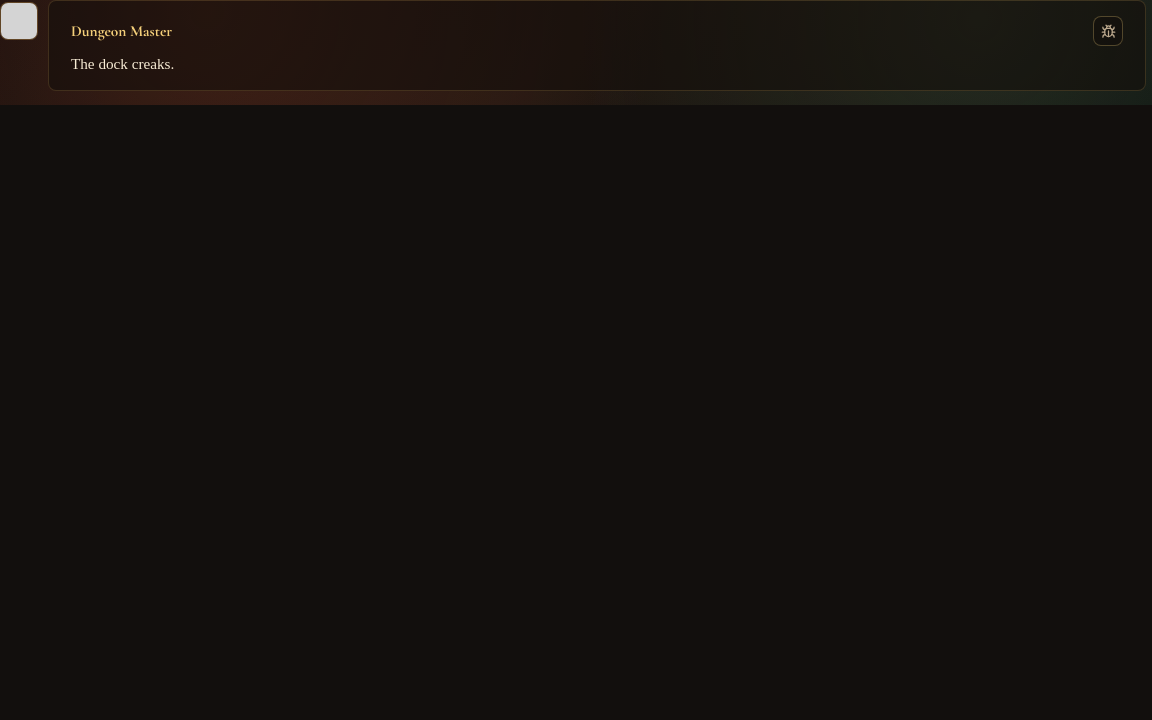
Test case: MessageLog › updates an open AI debug modal when message debug data refreshes
The width and height of the screenshot is (1152, 720).
Later steps or results of the test are not shown.
Click the button named "show ai debug details" at coordinates (1108, 31), box [1093,16,1123,46]
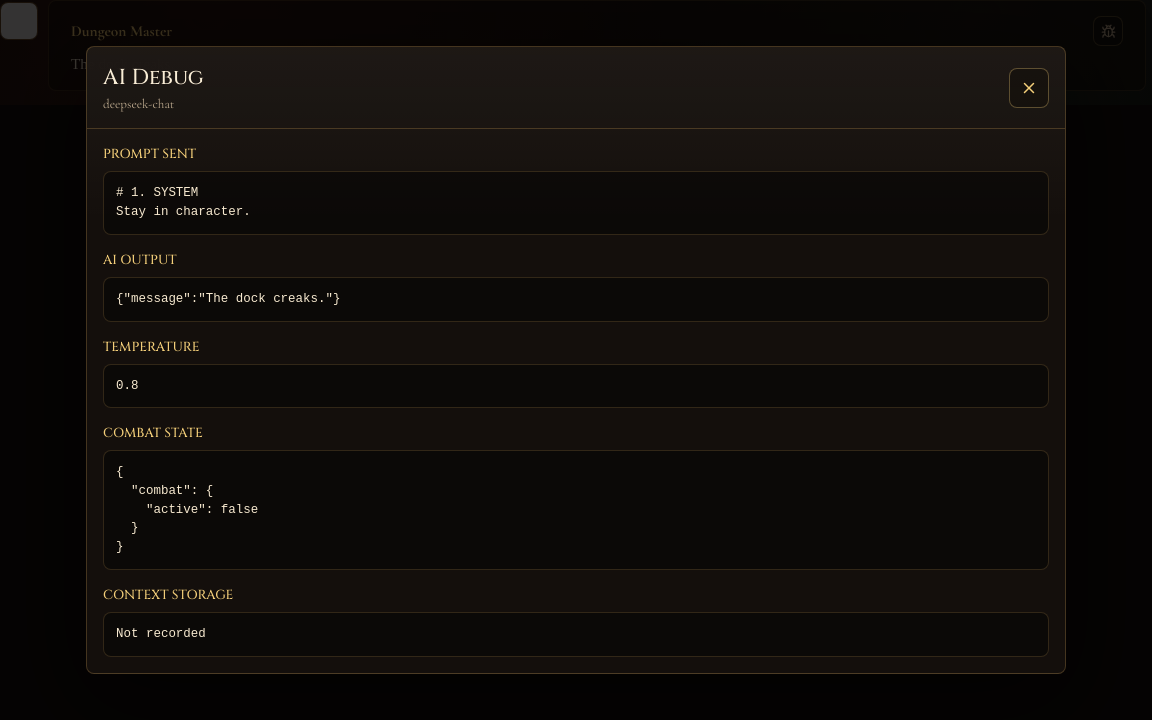
Now the dialog "AI Debug" is shown
Now the heading "Context Storage" is shown, box [103,586,233,604]
Now the text "Not recorded" is shown, box [103,612,1049,657]
